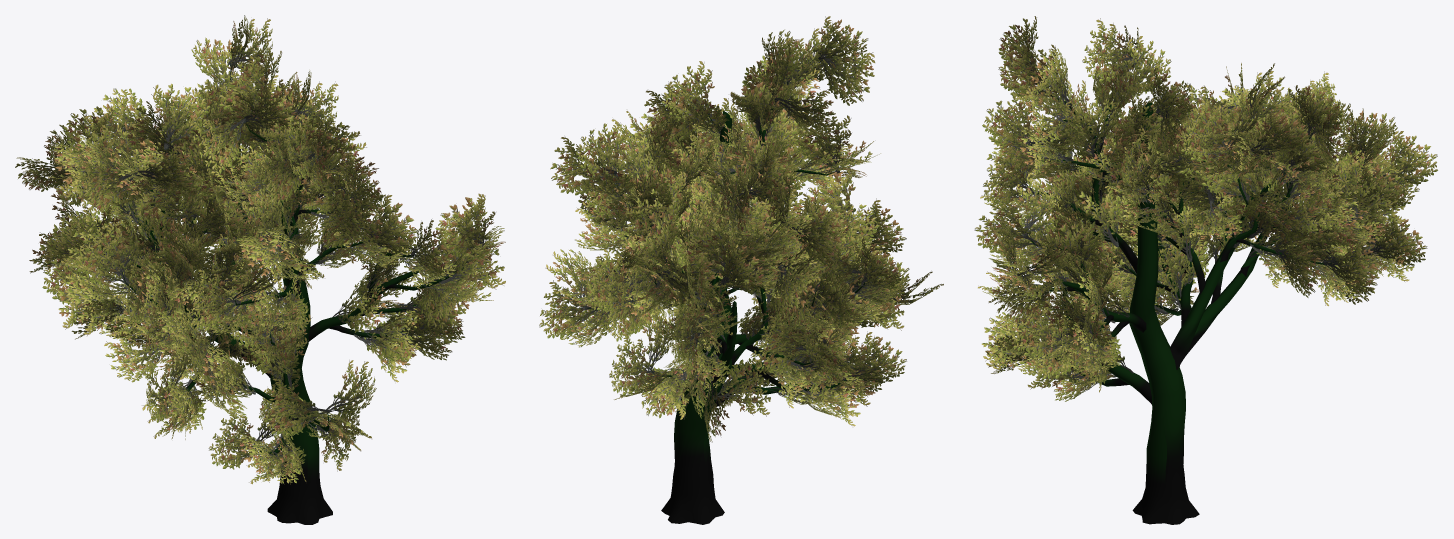
The model's file is tree6_2_afsTREE_xao_xlprl.fbx.
The picture shows the model from 3 angles, left to right: view 1: azimuth 30°, elevation 25°; view 2: azimuth 150°, elevation 25°; view 3: azimuth 270°, elevation 25°; orthographic projection.
Parts seen in each view (by area): view 1: branch.001_xw25_xt15_xp15, leaf1.312, leaf1.009, leaf.036, leaf.161, leaf1.047, leaf1.018, leaf1.155, leaf1.161, leaf.095, leaf1.095, leaf1.036 (+76 smaller); view 2: branch.001_xw25_xt15_xp15, leaf1.054, leaf1.089, leaf1.139, leaf1.156, leaf.072, leaf.185, leaf1.074, leaf.120, leaf1.072, leaf1.095, leaf.329 (+88 smaller); view 3: branch.001_xw25_xt15_xp15, branch.022_xw29_xt21_xp27, leaf1.083, leaf1.179, leaf1.077, leaf1.107, leaf.041, leaf1.030, leaf1.229, leaf1.299, leaf1.026, leaf.029 (+70 smaller).
Boxes of the visible parts, x1,y1,x2,y2 form: branch.001_xw25_xt15_xp15: (267,127,332,524); leaf1.312: (153,83,210,149); leaf1.009: (364,305,421,361); leaf.036: (270,385,329,434); leaf.161: (82,230,130,285); leaf1.047: (362,194,418,254); leaf1.018: (419,269,475,329); leaf1.155: (138,153,200,197); leaf1.161: (74,222,127,285); leaf.095: (204,118,245,166); leaf1.095: (190,119,245,173); leaf1.036: (261,377,327,435); branch.001_xw25_xt15_xp15: (661,111,731,524); leaf1.054: (819,54,875,105); leaf1.089: (844,336,906,384); leaf1.139: (718,241,767,294); leaf1.156: (786,216,842,266); leaf.072: (711,362,757,415); leaf.185: (584,129,629,186); leaf1.074: (641,367,690,416); leaf.120: (761,325,810,371); leaf1.072: (713,357,770,416); leaf1.095: (775,100,836,136); leaf.329: (670,69,715,124); branch.001_xw25_xt15_xp15: (1129,102,1199,524); branch.022_xw29_xt21_xp27: (1170,177,1279,369); leaf1.083: (1386,131,1437,185); leaf1.179: (1344,175,1405,224); leaf1.077: (1368,216,1427,265); leaf1.107: (1323,241,1377,295); leaf.041: (990,99,1036,153); leaf1.030: (1025,173,1063,234); leaf1.229: (1067,187,1120,245); leaf1.299: (1067,98,1120,151); leaf1.026: (1035,222,1098,270); leaf.029: (982,204,1040,253).
Size of the model in its own units: 7.35 by 8.76 by 7.99.
